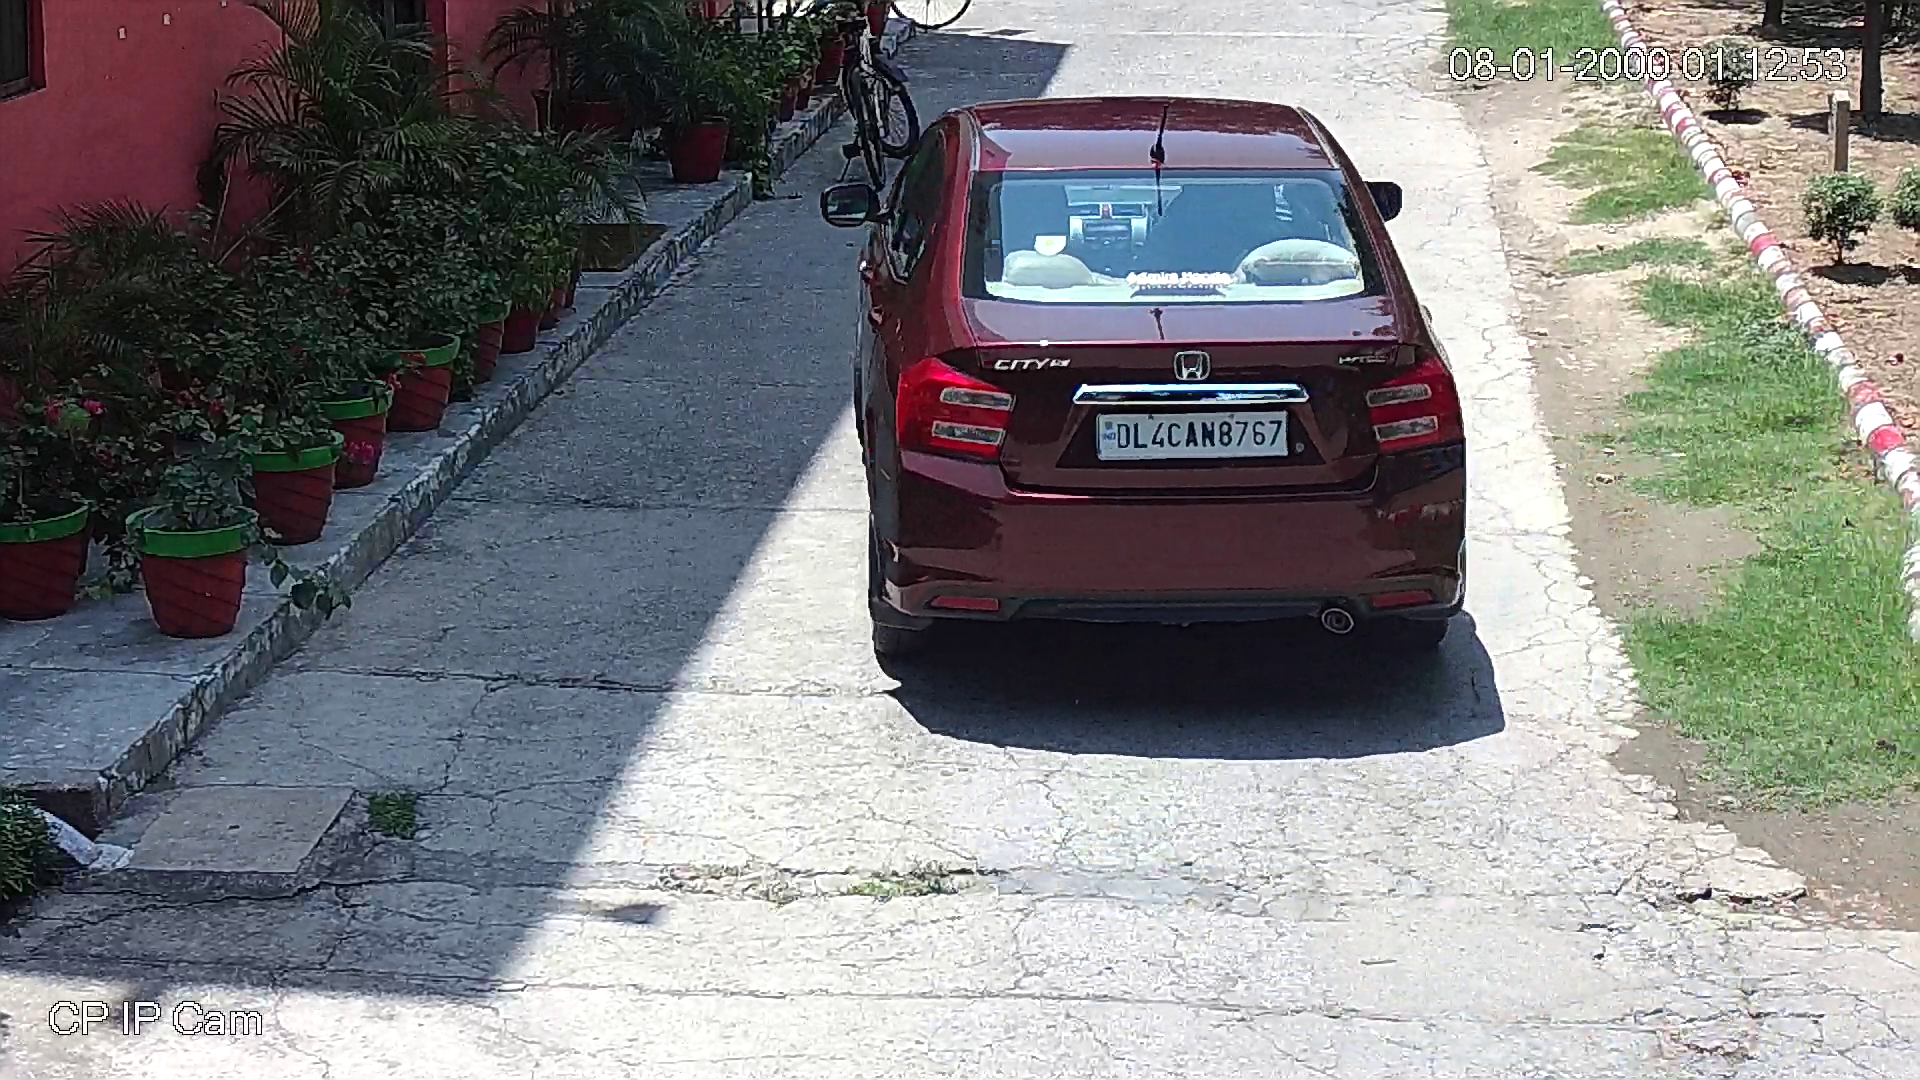plate: (1086, 399, 1295, 471)
